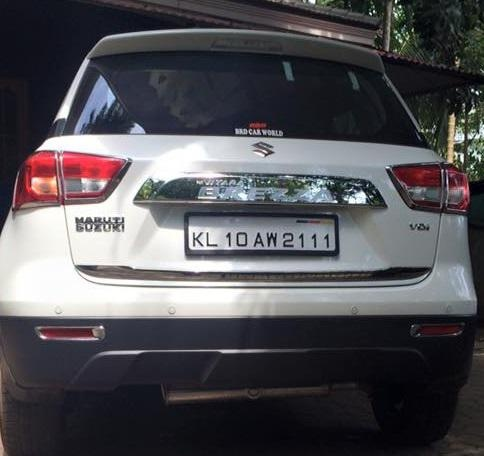number_plate: (184, 220, 342, 257)
